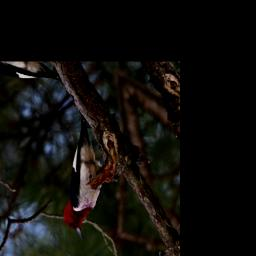Woodpecker: (26, 109, 132, 247)
